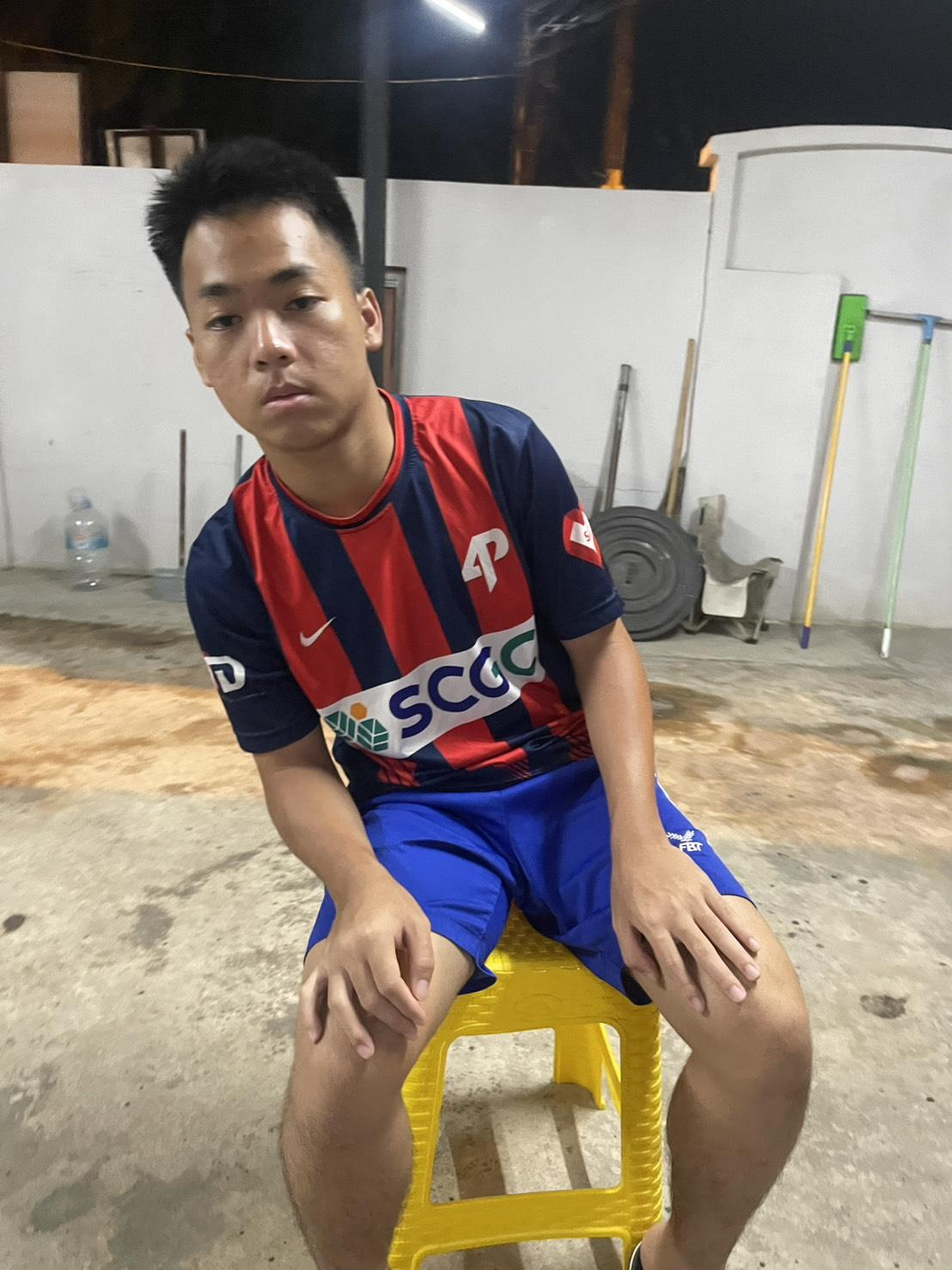BadPosture: (148, 138, 622, 799)
